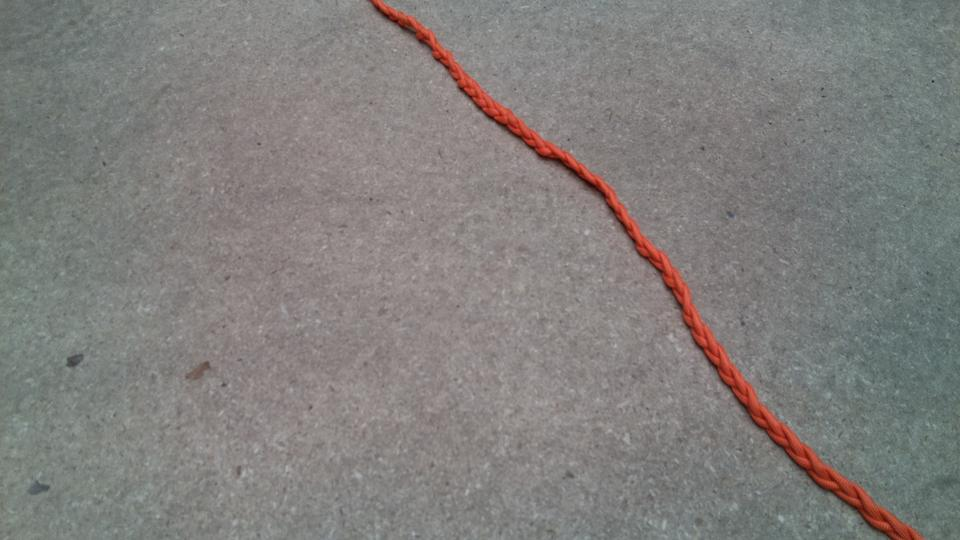rope: (372, 1, 960, 540)
